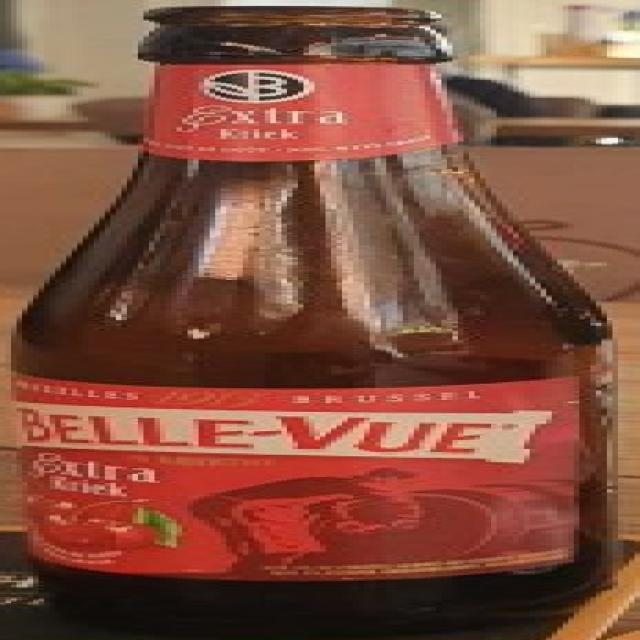Belle Vue Kriek Extra: (0, 1, 640, 640)
